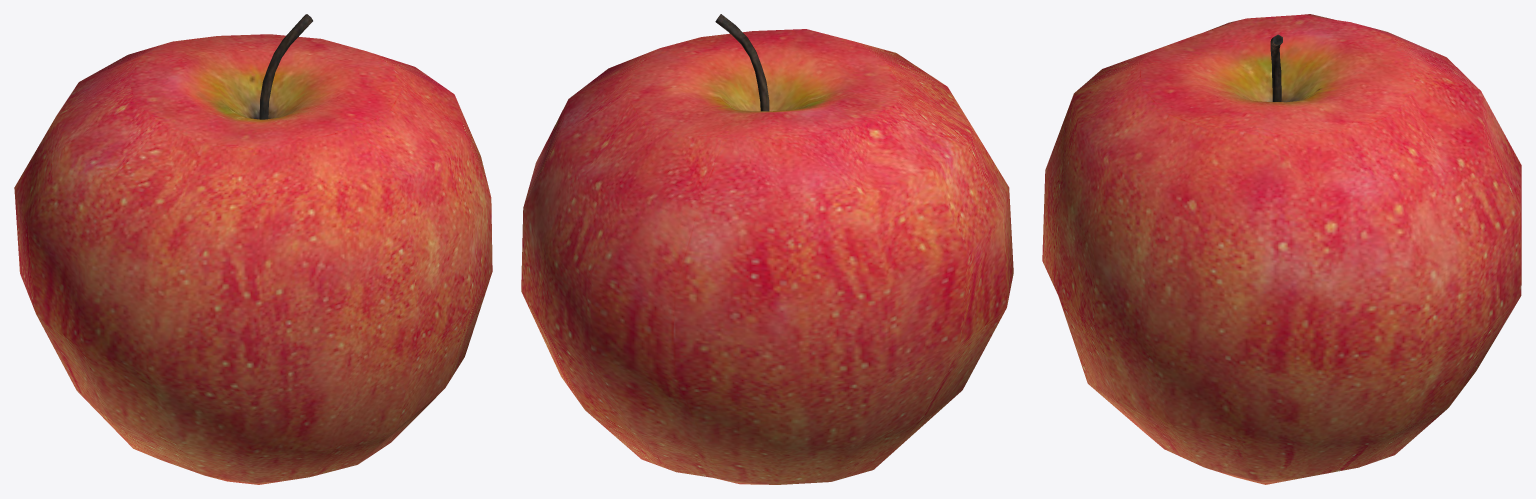
File: pingguo.fbx
3 views of the same model, side by side, from view 1: azimuth 30°, elevation 25°; view 2: azimuth 150°, elevation 25°; view 3: azimuth 270°, elevation 25° (orthographic).
Parts seen in each view (by area): view 1: pingguo; view 2: pingguo; view 3: pingguo.
Part boxes in pixels (x1,y1,x2,y2): pingguo: (14, 14, 492, 484); pingguo: (521, 14, 1013, 484); pingguo: (1042, 14, 1521, 484).
Bounding box in the file's own units: 11.68 × 11.47 × 11.42.
1 material, 1 textured.
